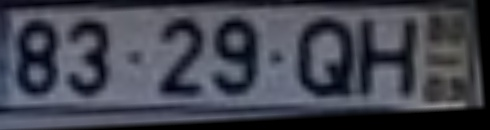2: (155, 15, 211, 102)
3: (64, 18, 115, 104)
8: (12, 17, 66, 103)
9: (210, 15, 264, 103)
H: (355, 17, 422, 102)
Q: (290, 16, 359, 104)
